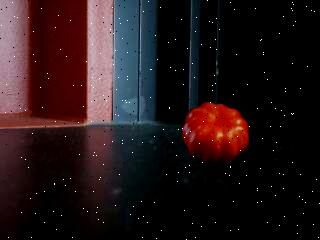Pumpkin: (181, 100, 250, 167)
